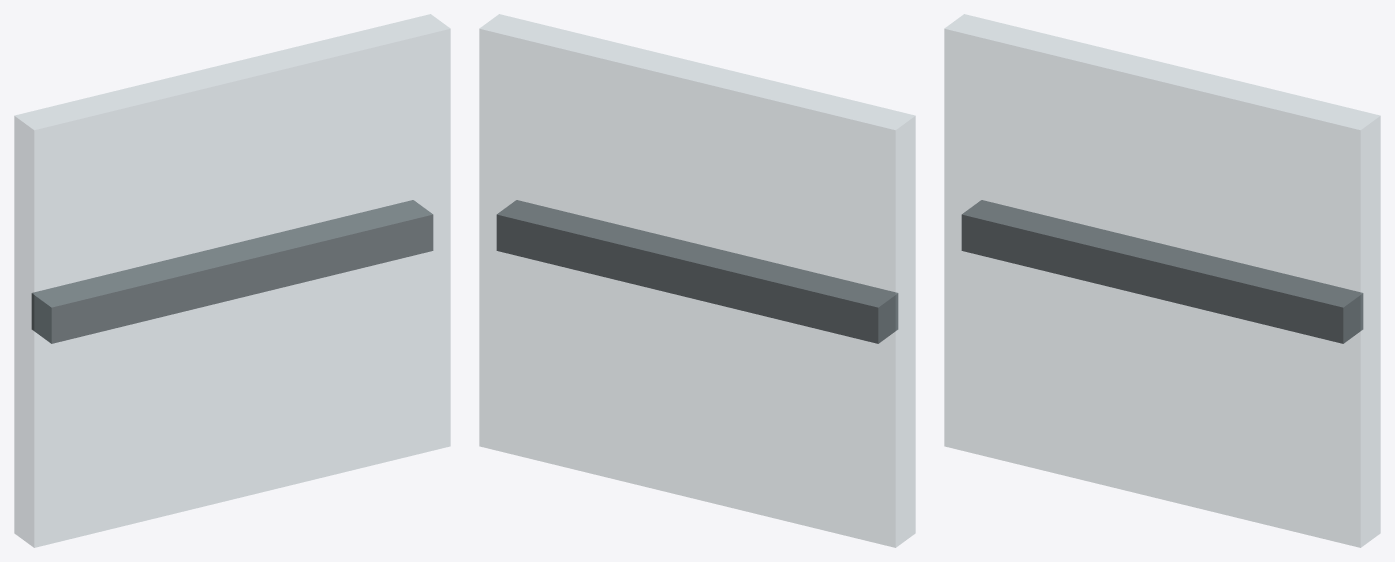
File: school_bus_side_window.glb
3 views of the same model, side by side, from view 1: azimuth 30°, elevation 25°; view 2: azimuth 150°, elevation 25°; view 3: azimuth 330°, elevation 25° (orthographic).
Visible parts, largest first — view 1: body:compound; view 2: body:compound; view 3: body:compound.
Part boxes in pixels (left/top/right/bottom): body:compound: left=14, top=14, right=450, bottom=547; body:compound: left=479, top=14, right=915, bottom=547; body:compound: left=944, top=14, right=1380, bottom=547.
Size of the model in its own units: 0.75 by 0.7188 by 0.0625.
